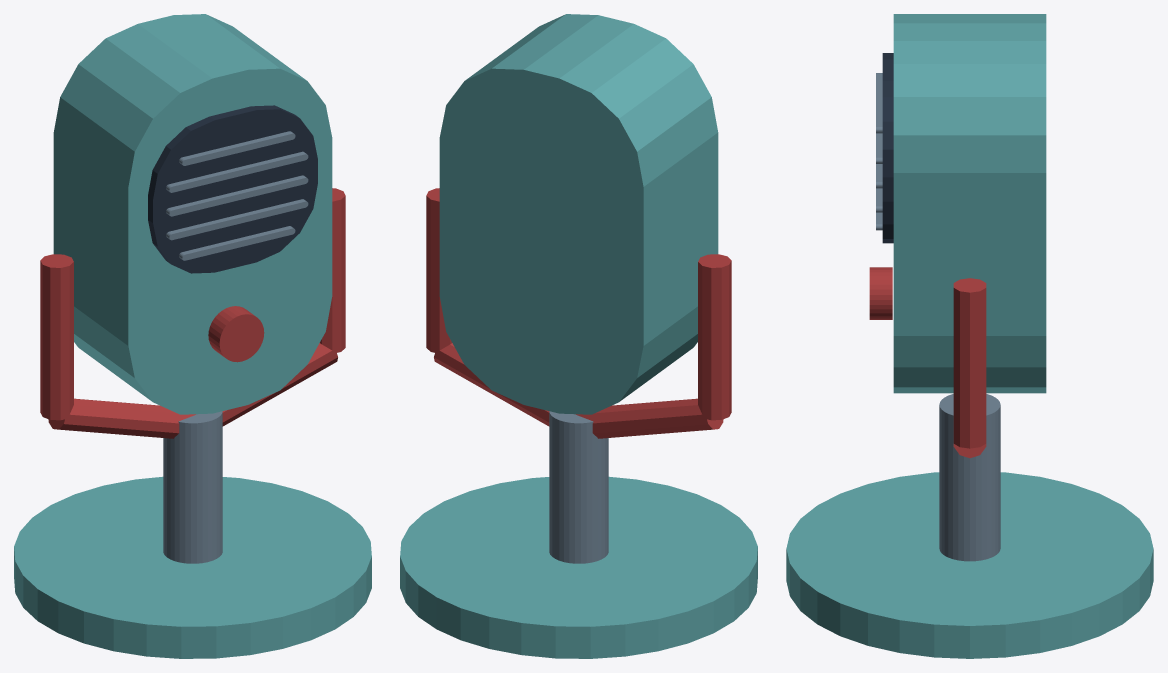
Rendered from mic.glb.
3 renders of one model, left to right at view 1: azimuth 30°, elevation 25°; view 2: azimuth 150°, elevation 25°; view 3: azimuth 270°, elevation 25°, orthographic. The views are drawn at different scales.
Visible parts, largest first — view 1: capsule, base, grille, stand, yoke0, yoke1, yoke3, mute key, mesh bar 3, mesh bar 1, mesh bar 2, yoke2 (+2 smaller); view 2: capsule, base, stand, yoke0, yoke1, yoke3, yoke2; view 3: capsule, base, stand, yoke3, grille, mute key.
Part boxes in pixels (left/top/right/bottom): capsule: left=53, top=14, right=332, bottom=414; base: left=14, top=476, right=371, bottom=658; grille: left=148, top=105, right=317, bottom=273; stand: left=163, top=411, right=222, bottom=563; yoke0: left=40, top=254, right=73, bottom=420; yoke1: left=48, top=398, right=195, bottom=438; yoke3: left=320, top=188, right=345, bottom=352; mute key: left=208, top=306, right=264, bottom=362; mesh bar 3: left=166, top=151, right=308, bottom=192; mesh bar 1: left=166, top=199, right=308, bottom=240; mesh bar 2: left=166, top=175, right=308, bottom=216; yoke2: left=222, top=343, right=337, bottom=426; capsule: left=439, top=14, right=718, bottom=414; base: left=400, top=476, right=757, bottom=658; stand: left=549, top=411, right=608, bottom=563; yoke0: left=698, top=254, right=731, bottom=420; yoke1: left=576, top=398, right=723, bottom=438; yoke3: left=426, top=188, right=451, bottom=352; yoke2: left=434, top=343, right=549, bottom=426; capsule: left=893, top=14, right=1046, bottom=393; base: left=786, top=472, right=1153, bottom=658; stand: left=939, top=394, right=1000, bottom=561; yoke3: left=953, top=278, right=986, bottom=448; grille: left=882, top=53, right=893, bottom=243; mute key: left=869, top=267, right=892, bottom=319.
Size of the model in its own units: 0.96 by 1.59 by 0.96.
